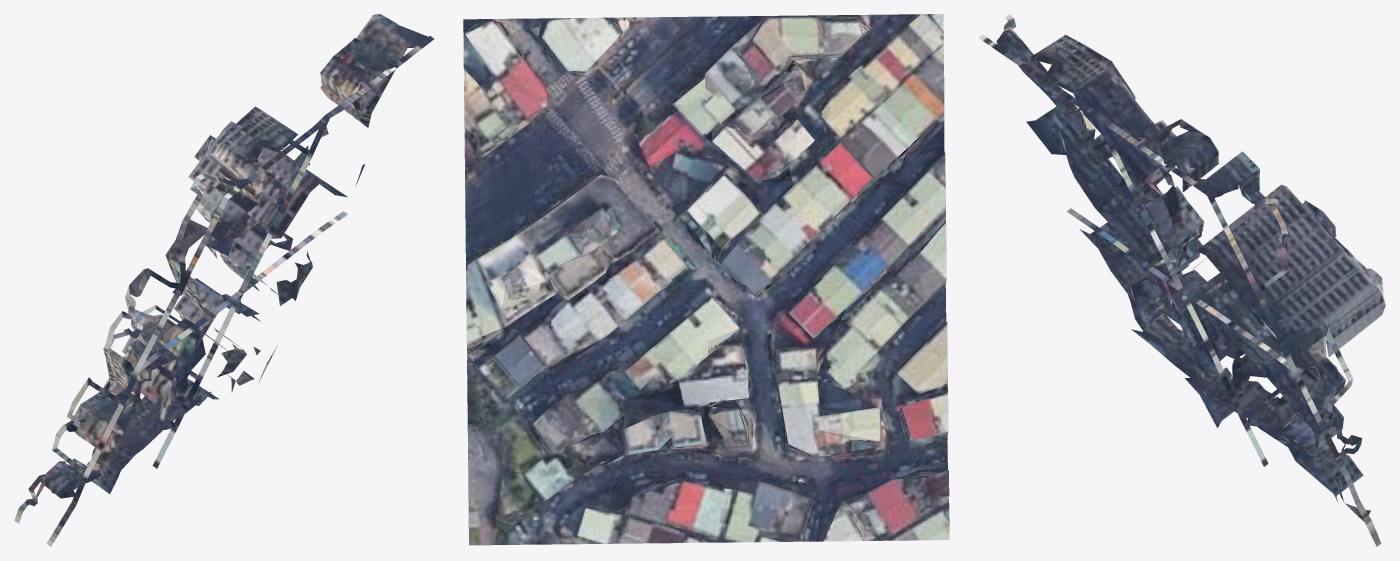
3 renders of one model, left to right at view 1: azimuth 30°, elevation 25°; view 2: azimuth 150°, elevation 25°; view 3: azimuth 270°, elevation 25°, orthographic. The views are drawn at different scales.
Bounding box in the file's own units: 159 × 146 × 129.
1 material, 1 textured.
